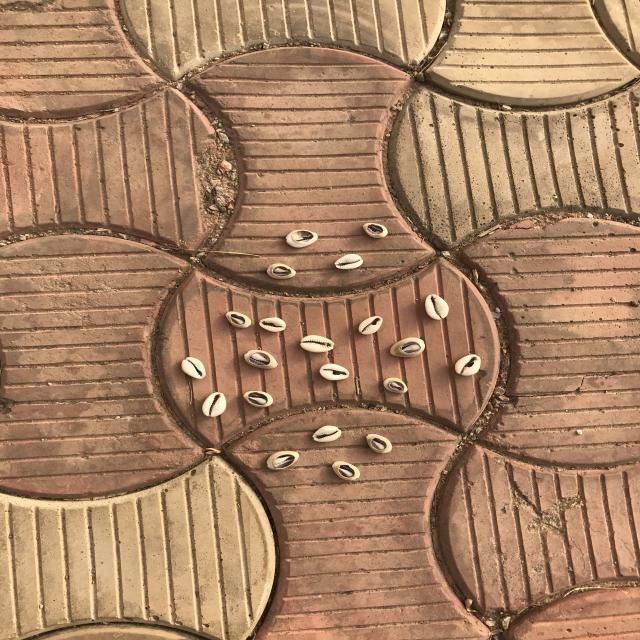facedown: (258, 447, 308, 472), (257, 260, 307, 284), (360, 429, 400, 458), (278, 227, 326, 251), (356, 218, 399, 244), (388, 336, 432, 360), (326, 458, 366, 484), (241, 349, 281, 373), (220, 307, 256, 332), (384, 376, 418, 400), (242, 389, 280, 409)
faceup: (422, 291, 459, 326), (176, 354, 219, 384), (295, 331, 343, 357), (313, 361, 361, 385), (200, 388, 232, 422), (326, 251, 374, 273), (304, 423, 348, 447), (453, 352, 489, 378), (353, 313, 387, 338), (254, 314, 292, 334)
